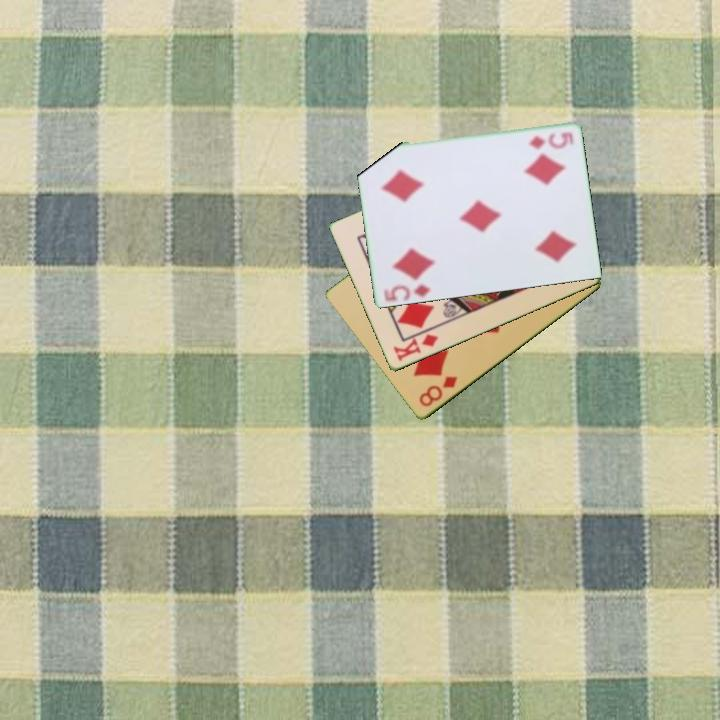5d: (382, 280, 434, 304), (525, 129, 576, 150)
8d: (415, 373, 461, 410)
Kd: (390, 331, 441, 365)
